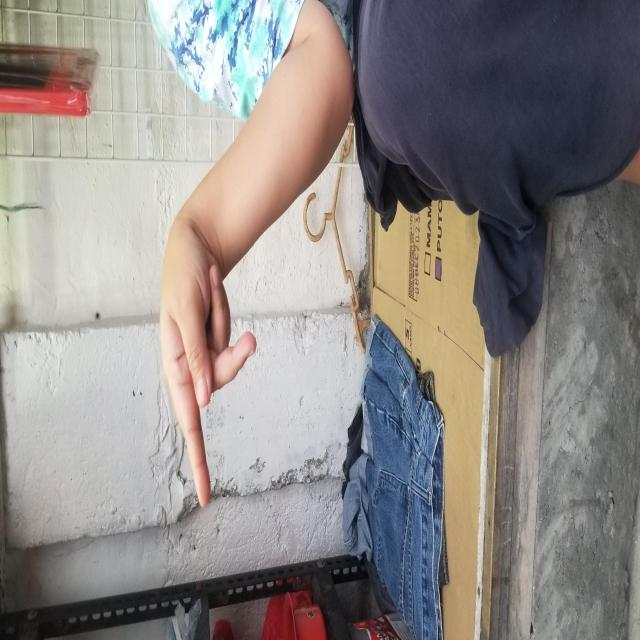P: (122, 182, 281, 546)
